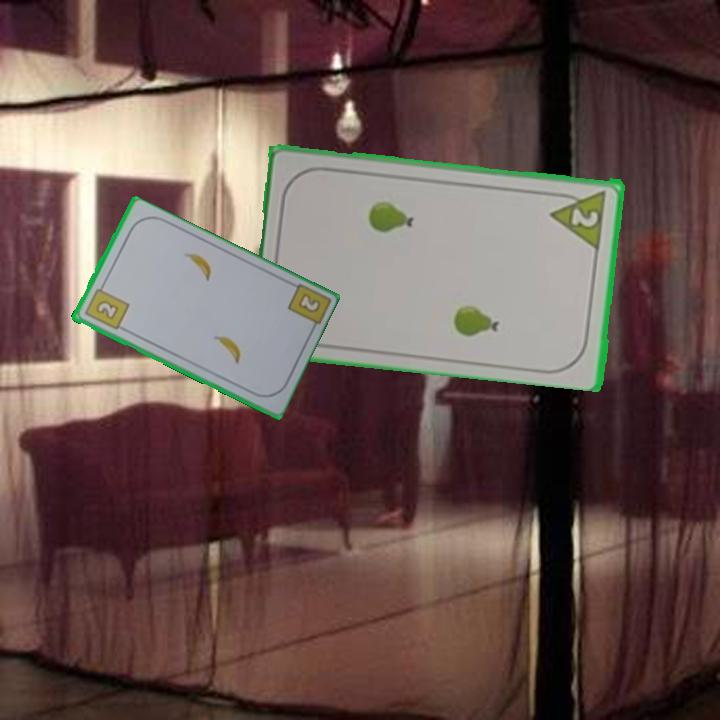2b: (81, 280, 131, 333), (296, 292, 321, 314)
2p: (567, 204, 601, 230)
